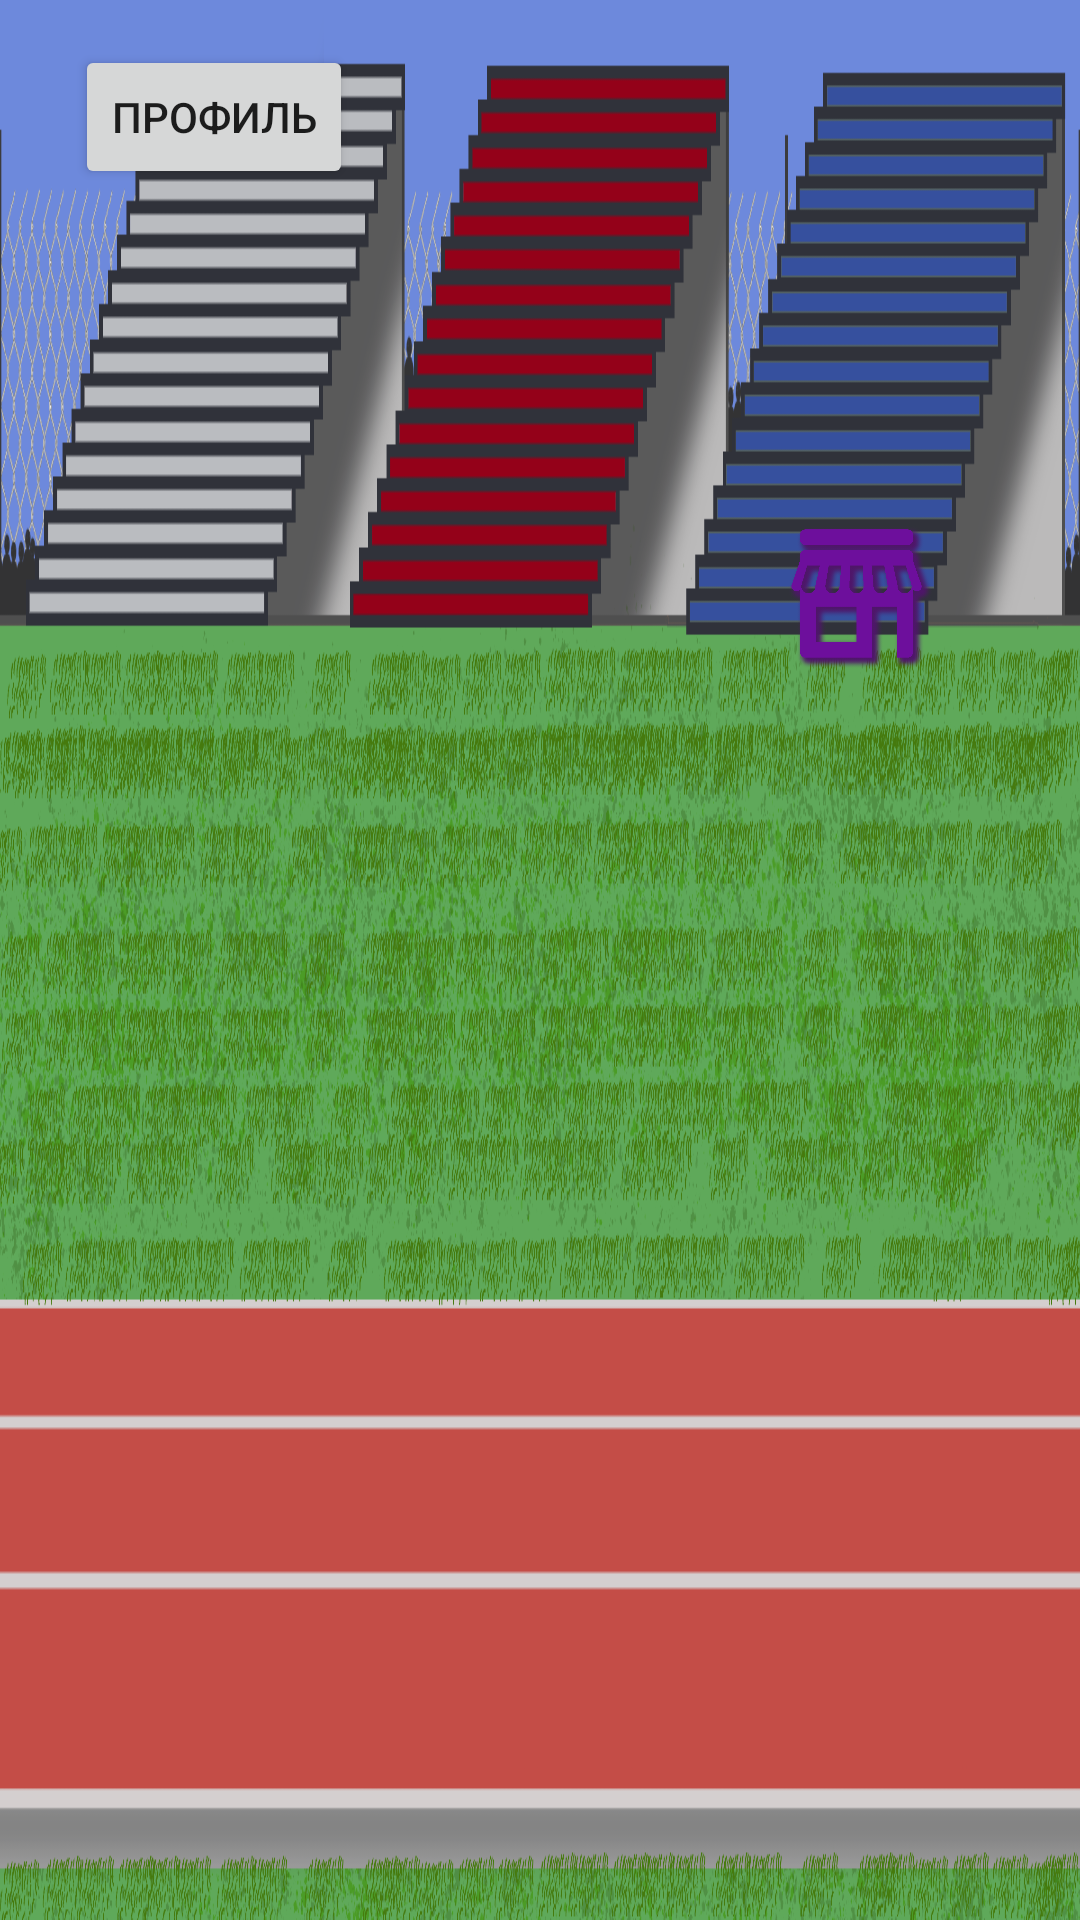

Point at icon controls on the screen. Image size 1080x1920, points as (x=x, y=y).
shop: (x=856, y=591)
